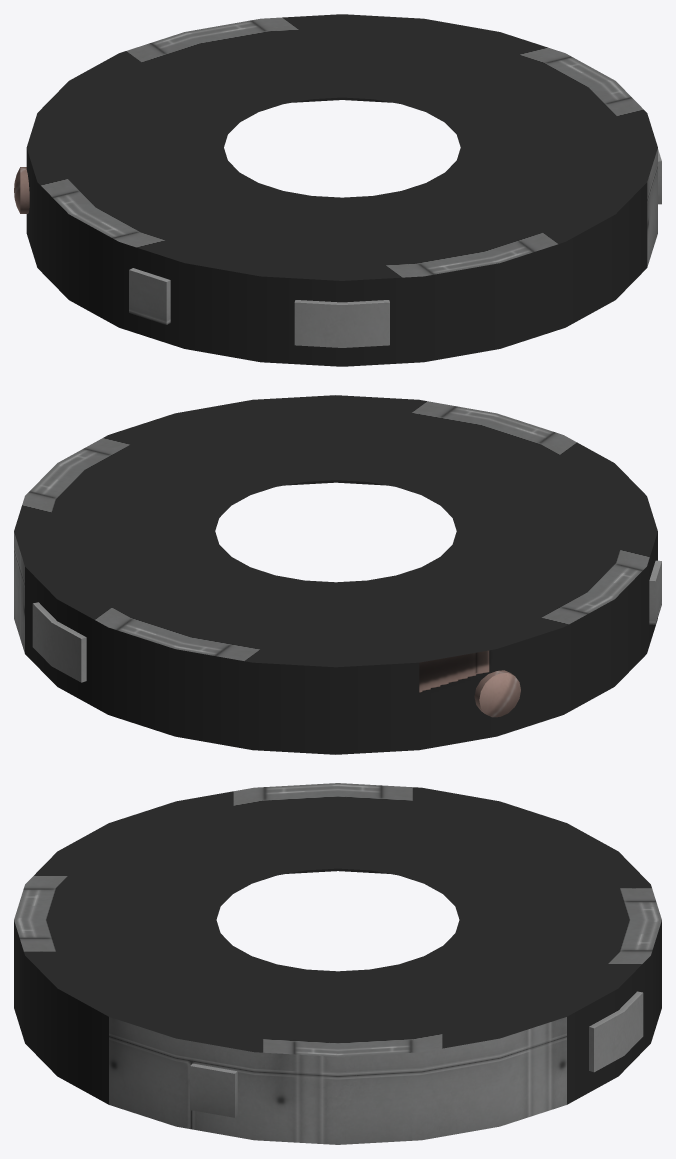
The model's file is acamar_adapter_s2_s0p5_2.obj.
3 renders of one model, top to bottom at view 1: azimuth 30°, elevation 25°; view 2: azimuth 150°, elevation 25°; view 3: azimuth 270°, elevation 25°, orthographic. The views are drawn at different scales.
Parts seen in each view (by area): view 1: mesh2; view 2: mesh2; view 3: mesh2.
Part boxes in pixels (<box>): mesh2: <box>14,14,661,366</box>; mesh2: <box>14,395,661,754</box>; mesh2: <box>14,783,661,1144</box>.
Bounding box in the file's own units: 2.5 × 0.375 × 2.5.
1 material, 1 textured.
